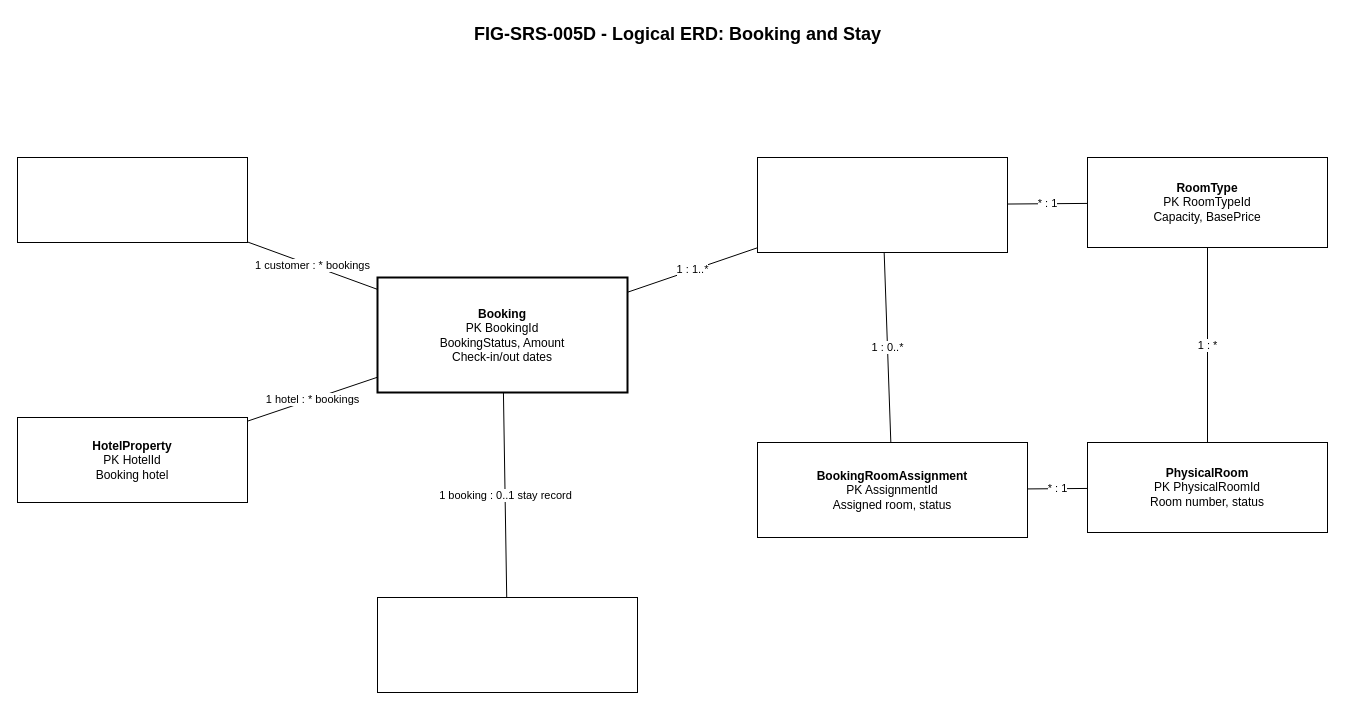
This 1345x710 diagram has some shape labels left out. The centre of each missing label's shape, as x and y in pixels:
BookingRoom PK BookingRoomId Quantity, NightCount: (882,204)
GuestStayRecord PK StayRecordId Identity info, stay dates: (507,644)
UserAccount PK UserAccountId Customer account: (132,199)
